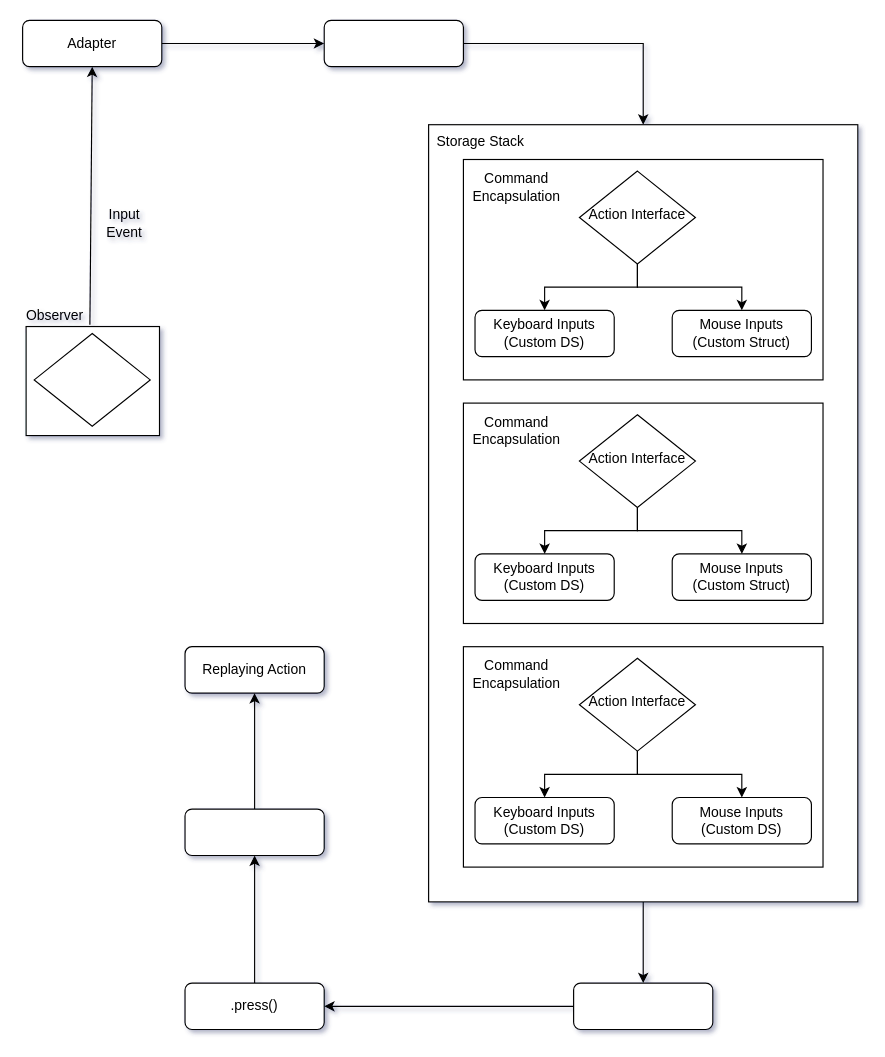
The diagram is 885 pixels wide and 1057 high, and some of its shapes have lost their labels. The centre of each missing label's shape, as x and y in pixels:
Action Object: the point at 393,43
GlobalScreen: the point at 91,379
Key/Mouse Adapter: the point at 642,1006
Robot: the point at 254,831
